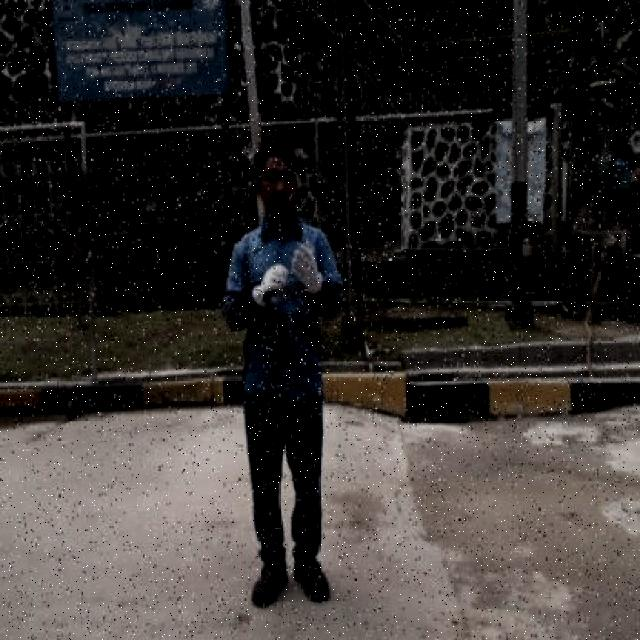Boots: (248, 555, 290, 614), (291, 550, 334, 606)
Gloves: (248, 258, 296, 314), (289, 238, 325, 298)
